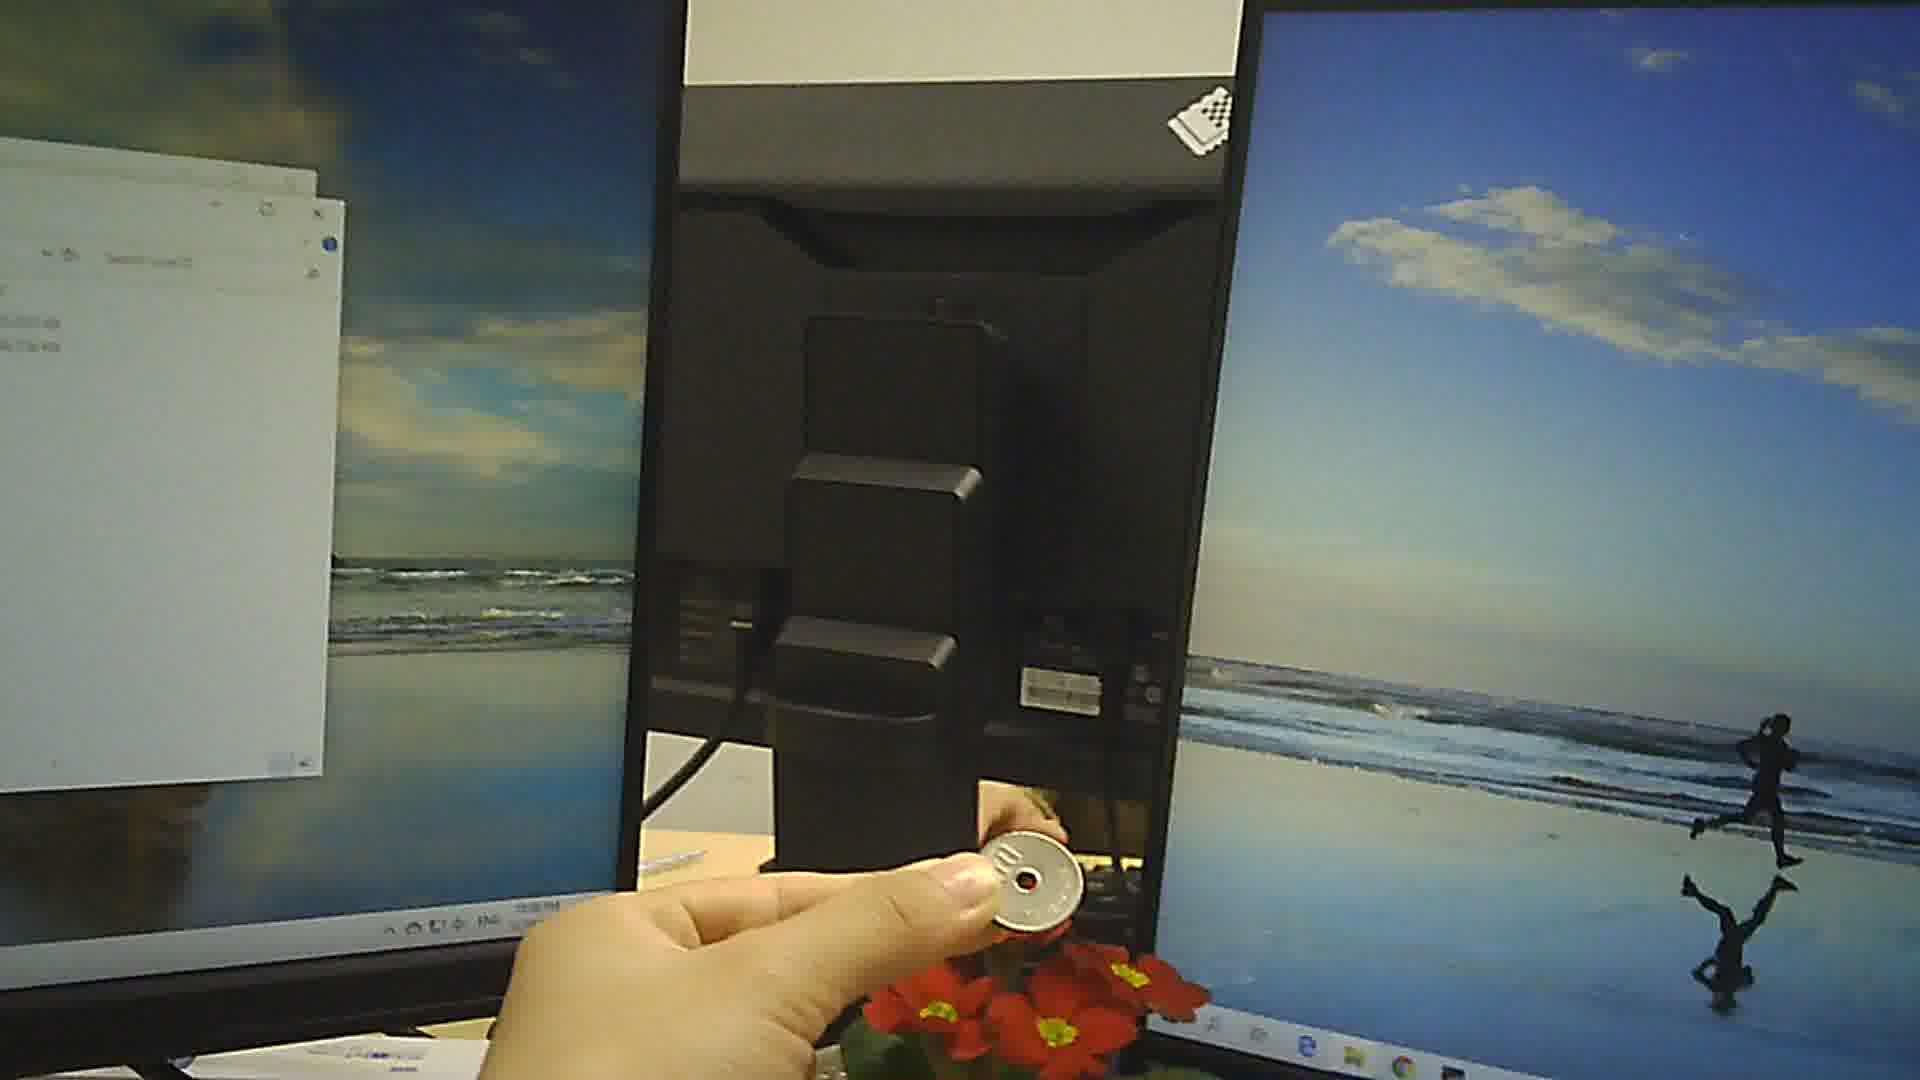50 Yen: (972, 829, 1095, 940)
